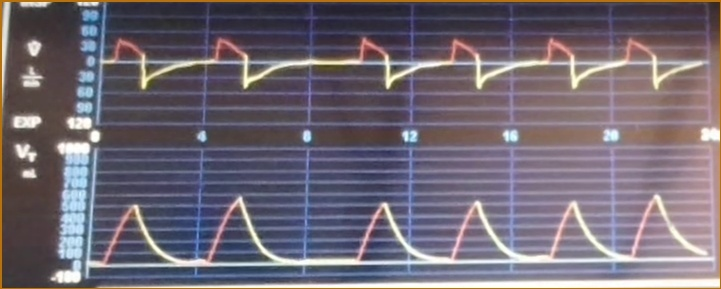Normal Flow: (104, 17, 704, 117)
Normal Volume: (96, 182, 707, 271)
